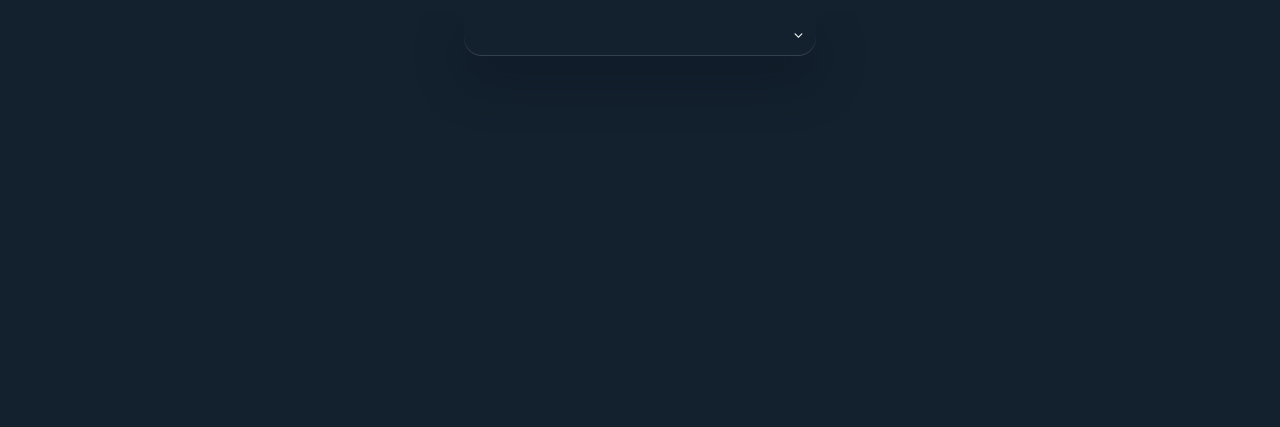
Test: replacement notch interaction › pins a hover preview and Escape closes with a persistent focus target
The image size is (1280, 427).
Hover over the button named "Organizer status": (799, 33) [464,12,816,56]
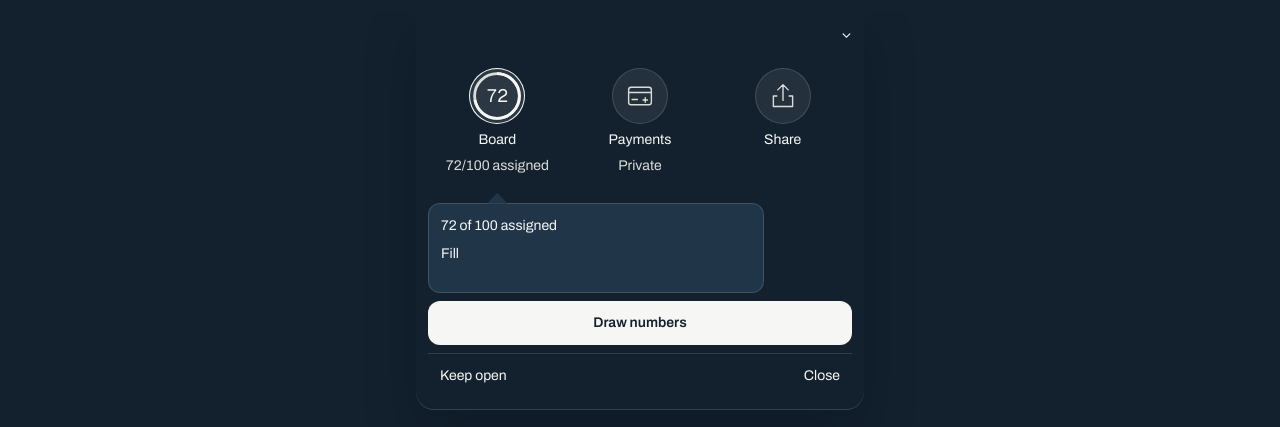
Check: the button named "Organizer status" is expanded
Click the button named "Organizer status": (847, 33) [416,12,864,56]
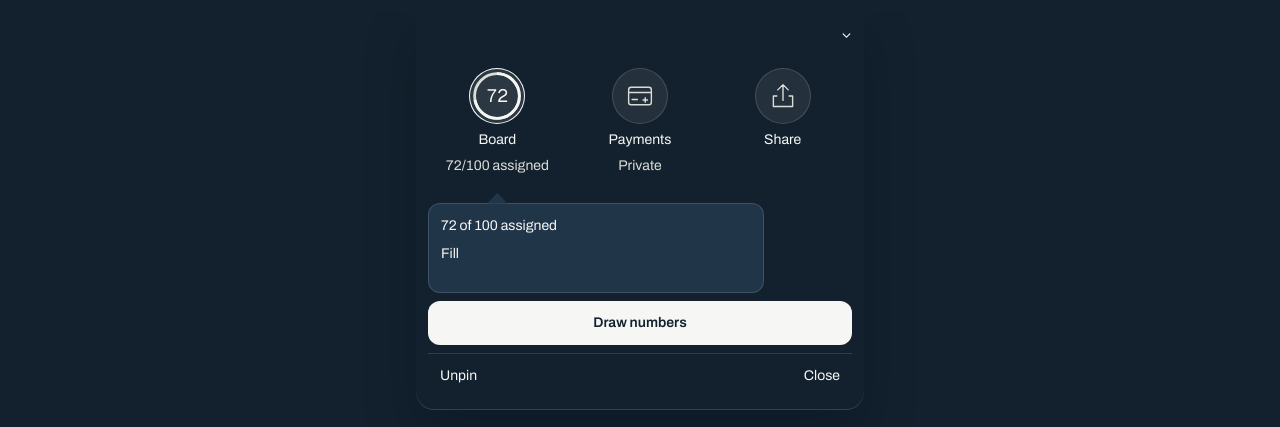
Check: the button "Unpin" is shown, box [428,354,489,398]
Press the mouse on the element that starts with "Board": (640, 42) [0,12,1279,72]
Check: the button named "Organizer status" is expanded
Press Escape in the button named "Organizer status", box [416,12,864,56]
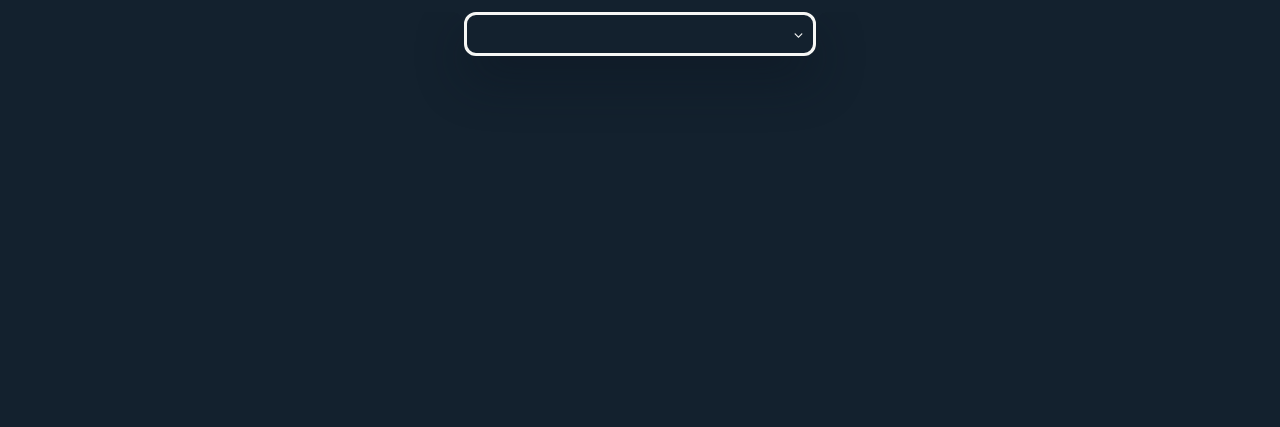
Check: the button named "Organizer status" is collapsed, box [464,12,816,56]
